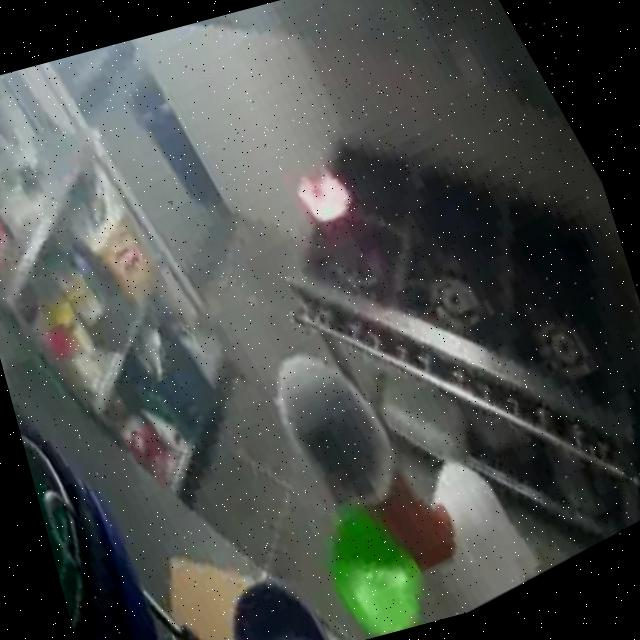fire: (251, 119, 389, 265)
